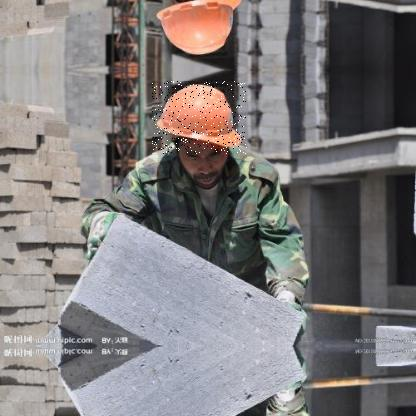safetyhelmet: (152, 81, 248, 156)
